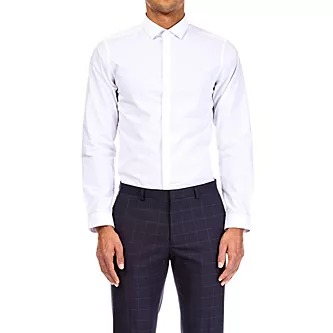F_dress pants: (107, 187, 230, 333)
F_shirt: (80, 13, 259, 231)
